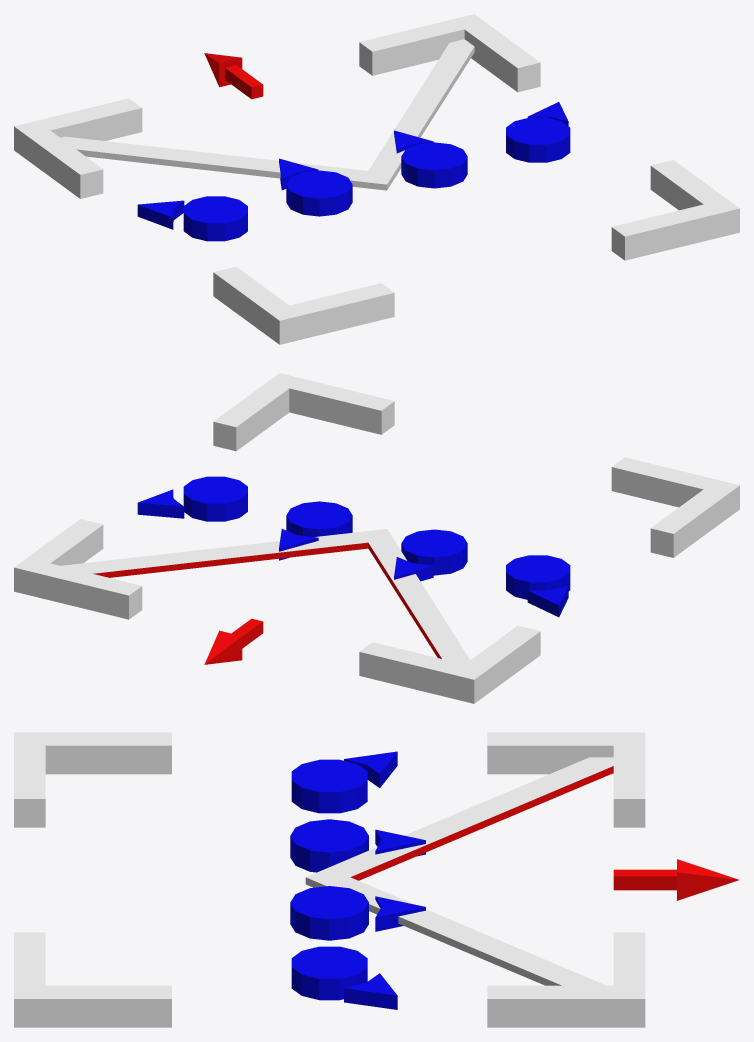
The picture shows the model from 3 angles, top to bottom: view 1: azimuth 30°, elevation 25°; view 2: azimuth 150°, elevation 25°; view 3: azimuth 270°, elevation 25°; orthographic projection. The views are drawn at different scales.
Parts seen in each view (by area): view 1: i_frame_Cube.007, los_Cube.003, Plane.010_Plane.012, Plane.009_Plane.011, Plane.008_Plane.010, Plane.003, arrow_Cube; view 2: i_frame_Cube.007, los_Cube.003, Plane.003, Plane.010_Plane.012, Plane.009_Plane.011, Plane.008_Plane.010, arrow_Cube; view 3: i_frame_Cube.007, los_Cube.003, Plane.003, Plane.008_Plane.010, Plane.010_Plane.012, Plane.009_Plane.011, arrow_Cube.
Part boxes in pixels (x1,y1,x2,y2): i_frame_Cube.007: (14,14,739,344); los_Cube.003: (60,39,474,190); Plane.010_Plane.012: (137,196,247,241); Plane.009_Plane.011: (279,158,352,216); Plane.008_Plane.010: (394,130,467,188); Plane.003: (506,102,570,162); arrow_Cube: (204,53,263,99); i_frame_Cube.007: (14,373,739,703); los_Cube.003: (61,529,469,664); Plane.003: (137,476,247,521); Plane.010_Plane.012: (506,555,570,617); Plane.009_Plane.011: (394,529,467,581); Plane.008_Plane.010: (279,501,352,560); arrow_Cube: (204,618,263,664); i_frame_Cube.007: (14,732,645,1027); los_Cube.003: (305,757,613,985); Plane.003: (291,946,397,1009); Plane.008_Plane.010: (290,886,425,940); Plane.010_Plane.012: (291,751,397,813); Plane.009_Plane.011: (290,819,425,872); arrow_Cube: (613,859,738,900).
Bounding box in the file's own units: 4 × 0.2 × 4.6.
